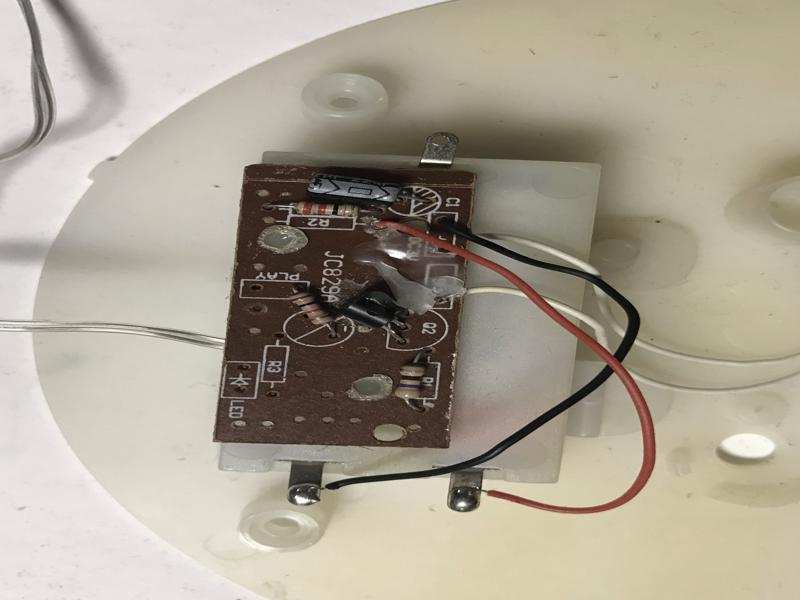Capacitor: (301, 174, 411, 208)
Resistor: (284, 284, 341, 331), (284, 198, 368, 221), (389, 358, 428, 406)
